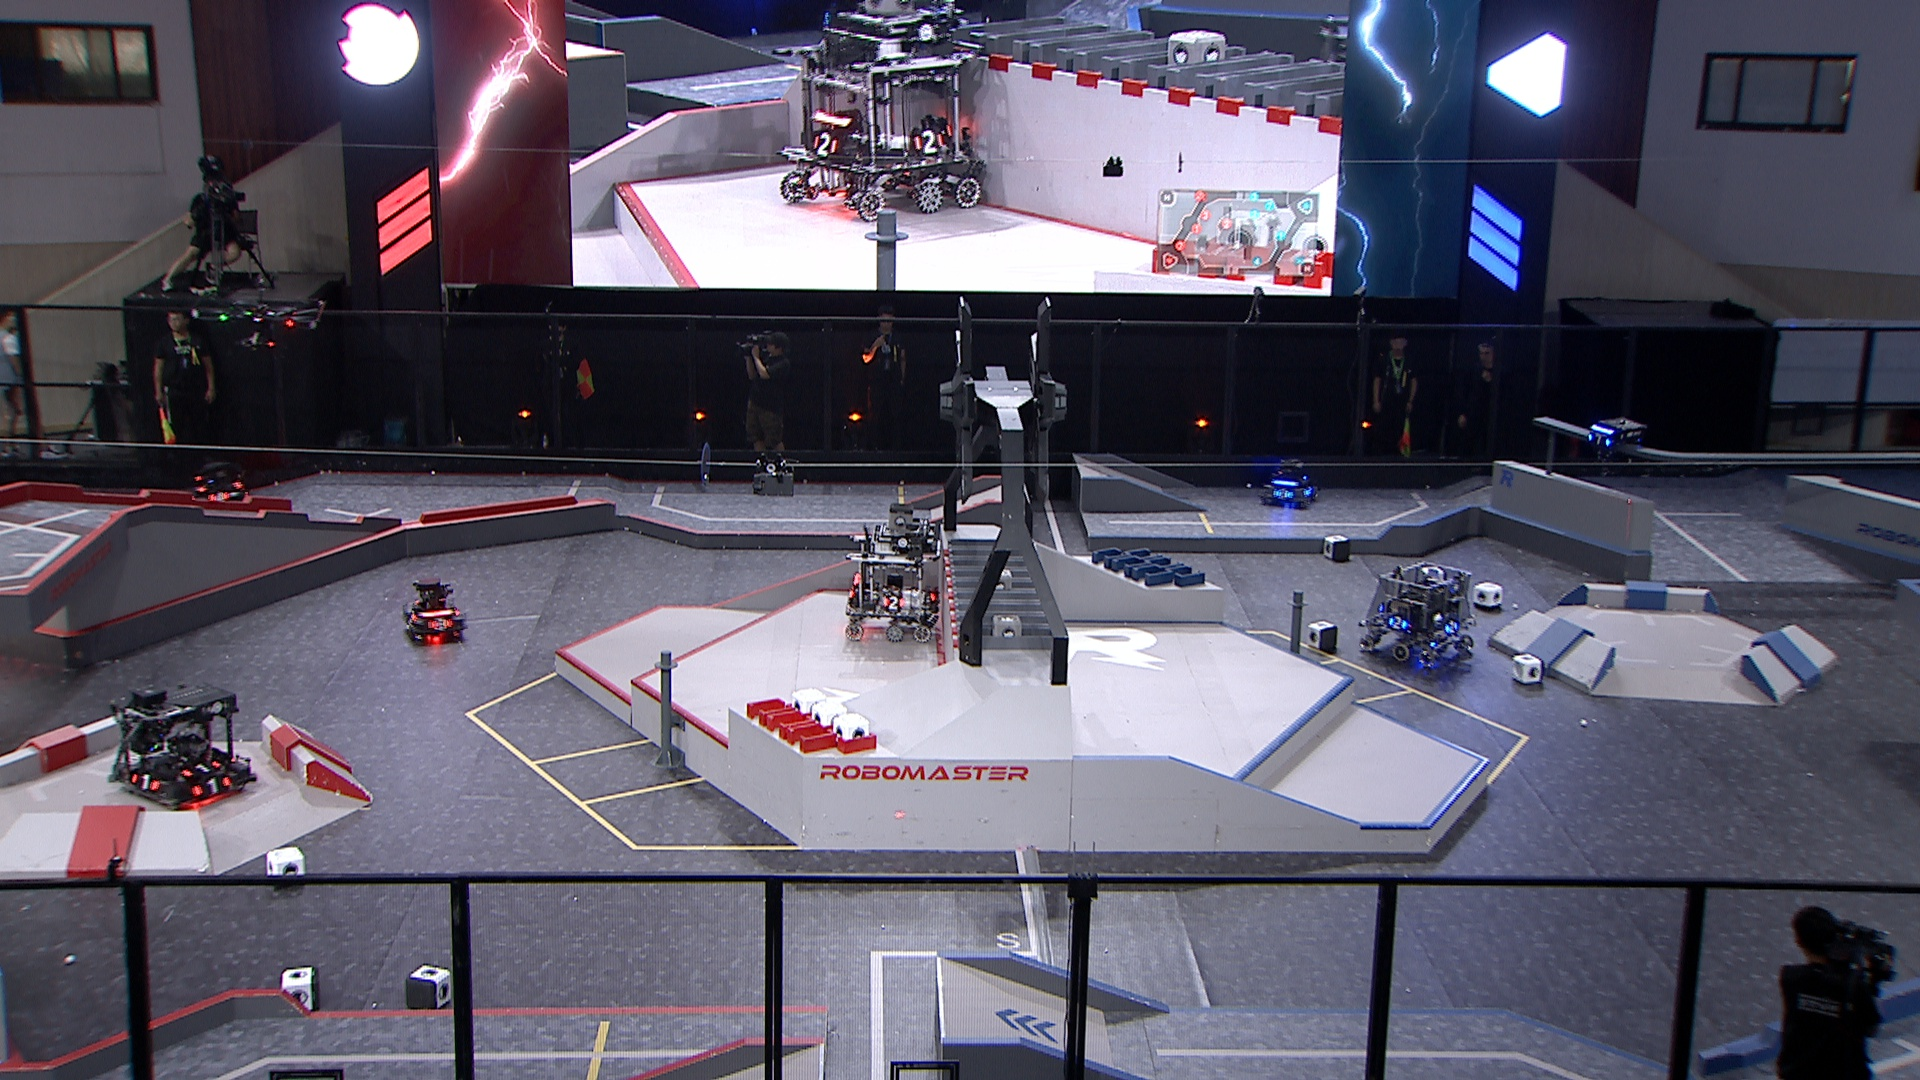armor: (191, 777, 233, 798), (181, 760, 220, 777), (129, 773, 161, 793), (1585, 433, 1611, 448), (1386, 615, 1408, 633), (427, 616, 452, 632), (204, 491, 231, 505), (882, 595, 906, 611), (1443, 618, 1462, 636), (1271, 488, 1296, 501), (405, 611, 419, 626), (1302, 484, 1315, 498)
car: (107, 684, 258, 808), (1356, 560, 1480, 669), (843, 514, 942, 644), (401, 575, 467, 644), (1257, 456, 1320, 509), (189, 462, 251, 513)
ignore: (775, 0, 986, 223)
watcher: (1584, 415, 1642, 476)
